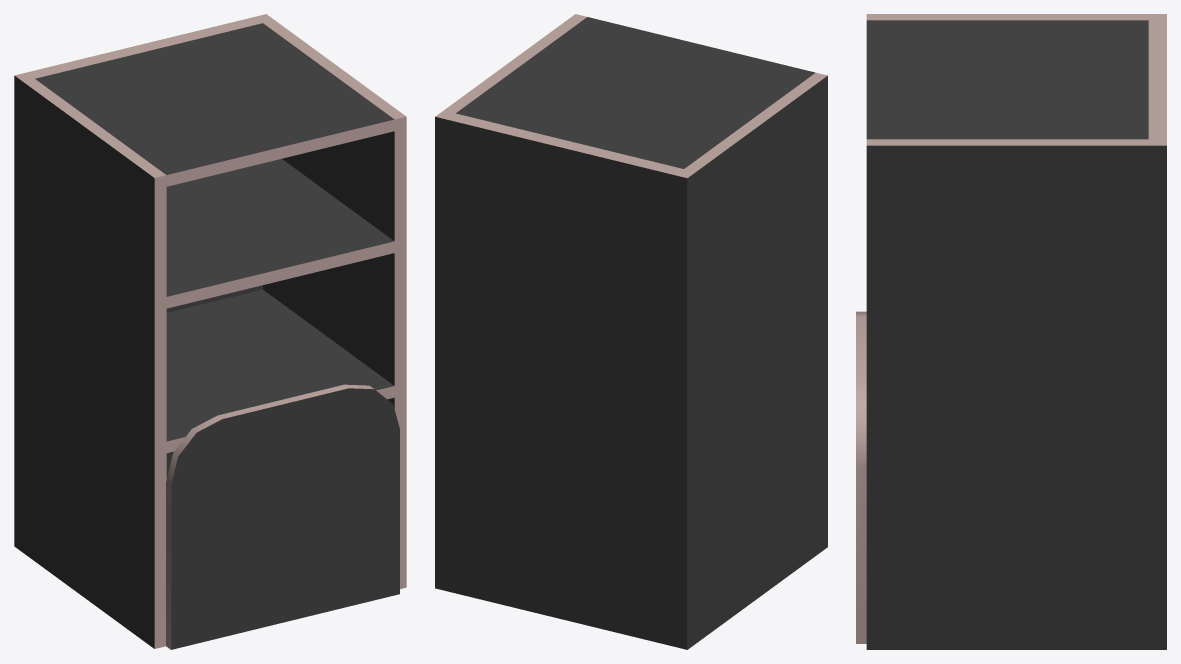
File: shelf_047.glb
The picture shows the model from 3 angles, left to right: view 1: azimuth 30°, elevation 25°; view 2: azimuth 150°, elevation 25°; view 3: azimuth 270°, elevation 25°; orthographic projection. The views are drawn at different scales.
Visible parts, largest first — view 1: shelf_047; view 2: shelf_047; view 3: shelf_047.
Boxes of the visible parts, box(x1,y1,x2,y2) form: shelf_047: box(14, 14, 406, 649); shelf_047: box(435, 14, 827, 649); shelf_047: box(856, 14, 1166, 649).
Bounding box in the file's own units: 0.5479 × 0.9788 × 0.5469.
1 material, 1 textured.
